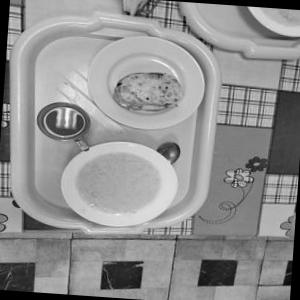cheese_sandwich: (108, 62, 189, 118)
coffee: (33, 93, 98, 159)
porridge: (75, 144, 165, 224)
